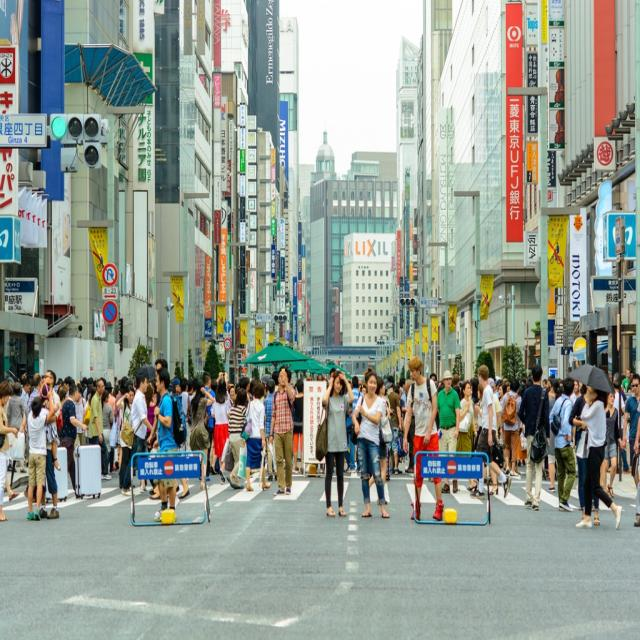body: (0, 240, 639, 471), (574, 388, 622, 530), (406, 354, 445, 524), (314, 367, 355, 519), (350, 366, 390, 519), (150, 367, 188, 524), (469, 364, 512, 498), (516, 362, 552, 512), (568, 383, 602, 527), (120, 370, 156, 497), (35, 367, 64, 521), (267, 362, 297, 496), (26, 393, 56, 522), (548, 376, 576, 514), (239, 379, 272, 492), (59, 382, 89, 500), (368, 375, 393, 507), (188, 379, 216, 492), (436, 369, 461, 494), (455, 378, 479, 494), (600, 390, 624, 499), (87, 378, 112, 482), (226, 386, 249, 491), (210, 377, 232, 486), (0, 376, 16, 524), (499, 379, 523, 477), (115, 382, 136, 492), (620, 371, 640, 485), (38, 382, 62, 472), (5, 381, 28, 474), (546, 377, 562, 494), (346, 374, 364, 475), (263, 378, 278, 482), (387, 381, 402, 476), (290, 378, 304, 476), (101, 389, 117, 474), (152, 356, 178, 401), (487, 377, 504, 445)
